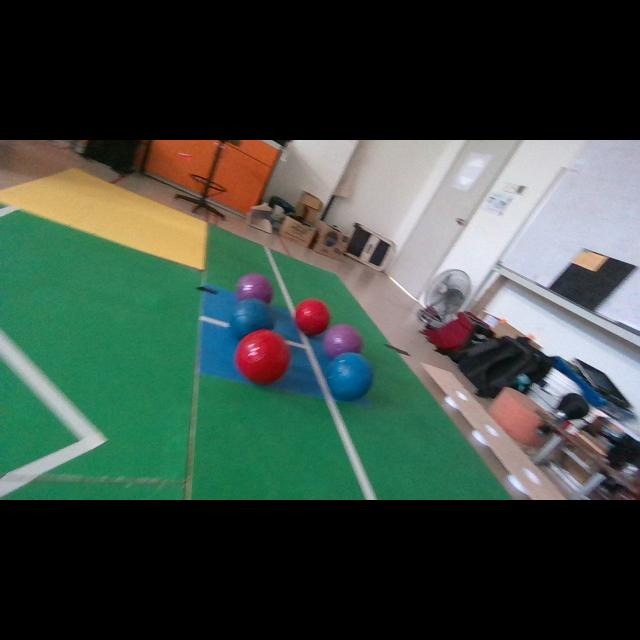B: (325, 352, 372, 401), (231, 299, 274, 340)
P: (324, 324, 362, 359), (236, 274, 272, 304)
R: (235, 329, 291, 384), (295, 299, 330, 336)
